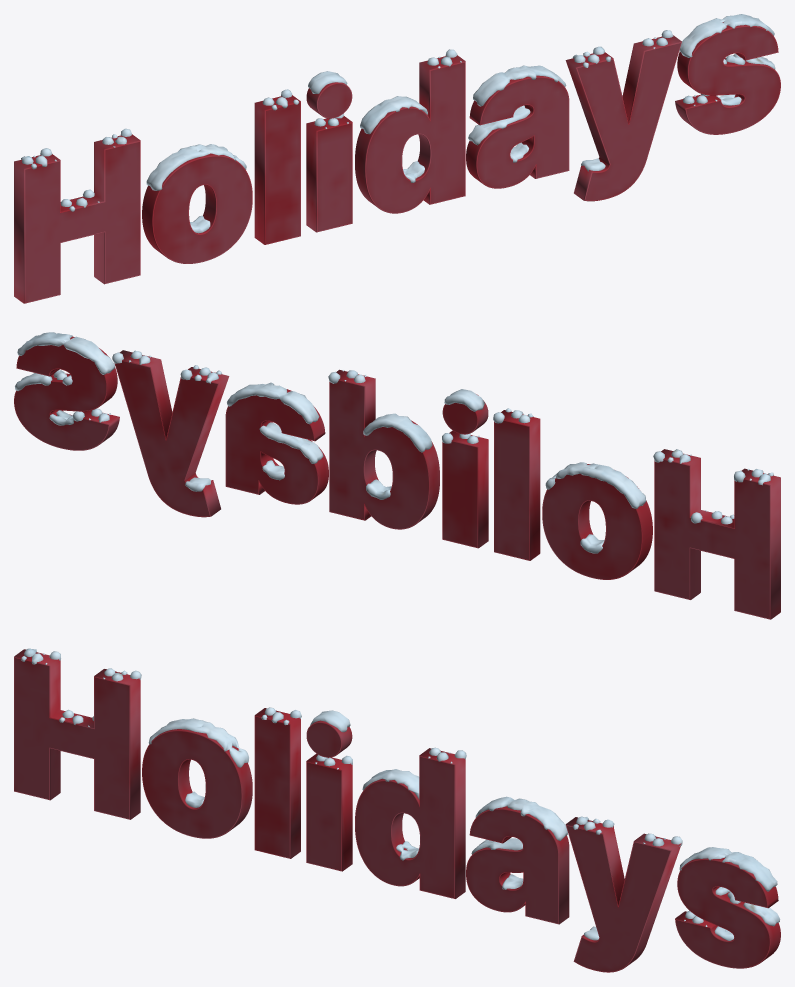
Rendered from holidays.glb.
The picture shows the model from 3 angles, top to bottom: view 1: azimuth 30°, elevation 25°; view 2: azimuth 150°, elevation 25°; view 3: azimuth 330°, elevation 25°; orthographic projection.
Visible parts, largest first — view 1: Holidays; view 2: Holidays; view 3: Holidays.
Boxes of the visible parts, left/top/right/bottom form: Holidays: left=14, top=14, right=780, bottom=303; Holidays: left=14, top=332, right=780, bottom=619; Holidays: left=14, top=648, right=780, bottom=972.
Size of the model in its own units: 61.45 by 14.47 by 2.02.
Materials: 2 (2 with a texture image).
